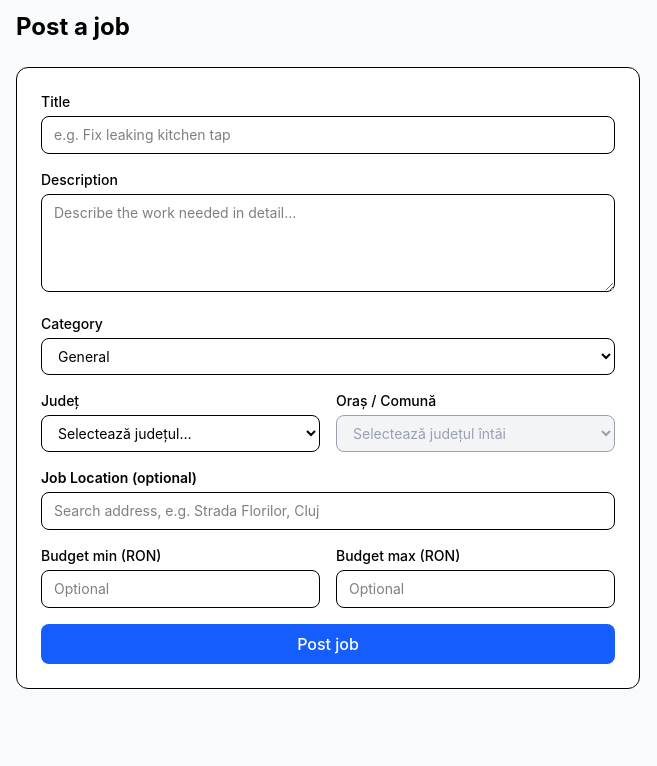
Scenario: shows validation error on empty title submit
This screenshot has width=657, height=766.
What coordinates should you click on to do the following:
click the button "Post job"
I would click on:
 (328, 644)
Its box is [41,624,615,664].
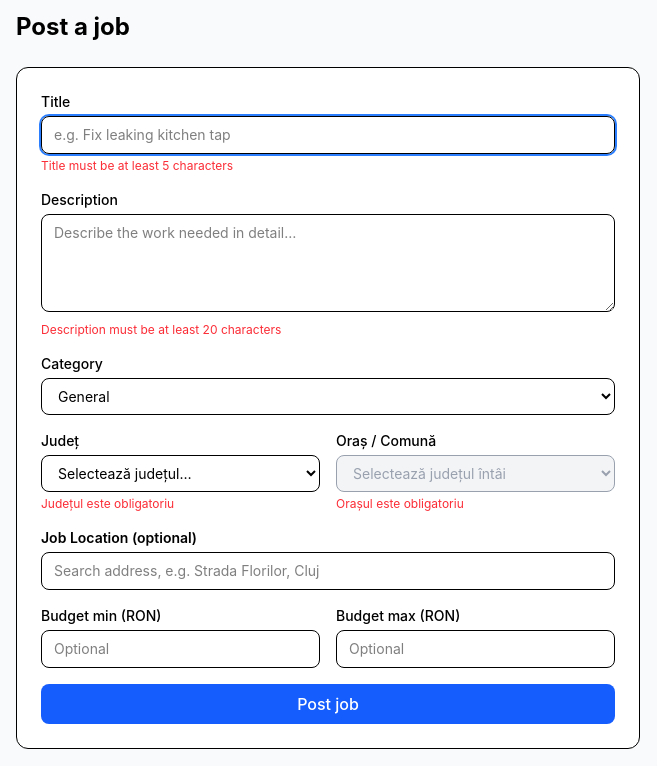
Expected: the text "Title must be at least 5 characters" is shown, [41,158,233,173]
